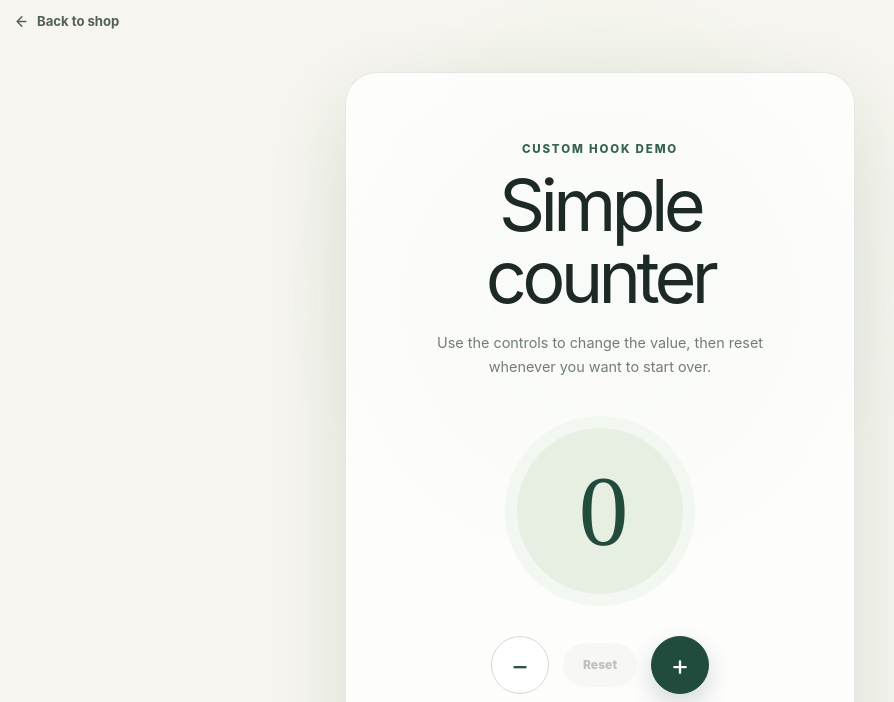
Counter Testing › reset
Expected: the text named "Current count: 0" is shown, [505,416,695,606]
Click the button named "increase count" at coordinates (680, 665), box [651,636,709,694]
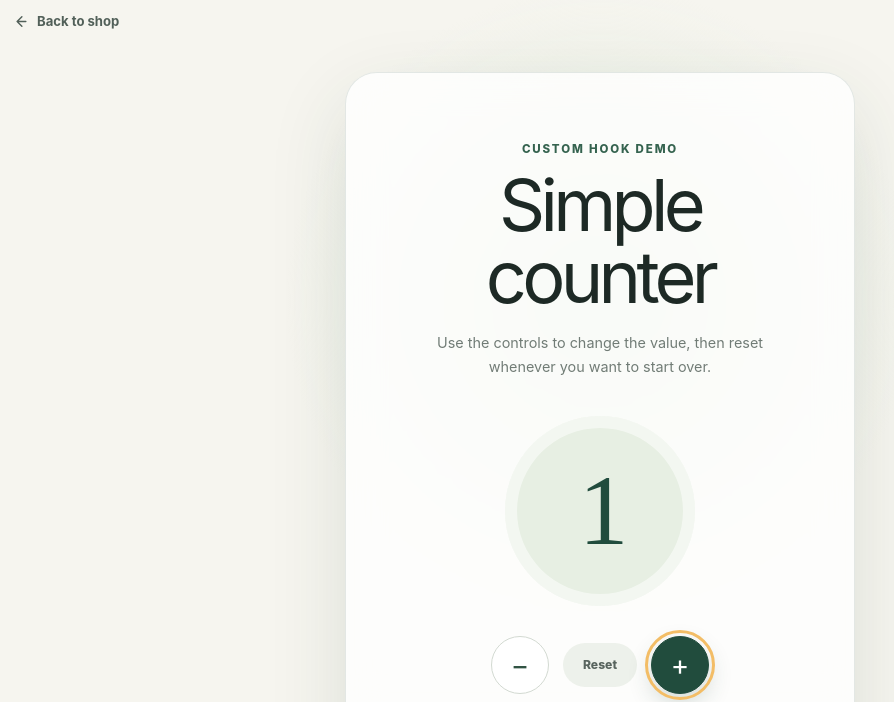
Result: the text named "Current count: 1" is shown at [505,416,695,606]
Click the button "Reset" at coordinates (600, 665), box [563,643,637,687]
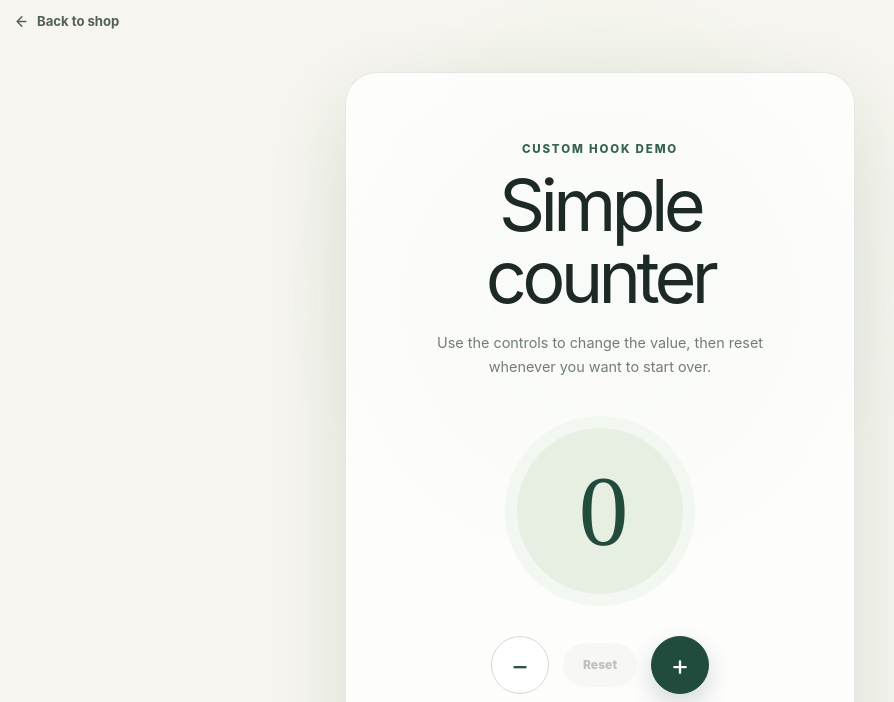
Result: the text named "Current count: 0" is shown at [505,416,695,606]
Result: the button "Reset" is disabled at [563,643,637,687]
